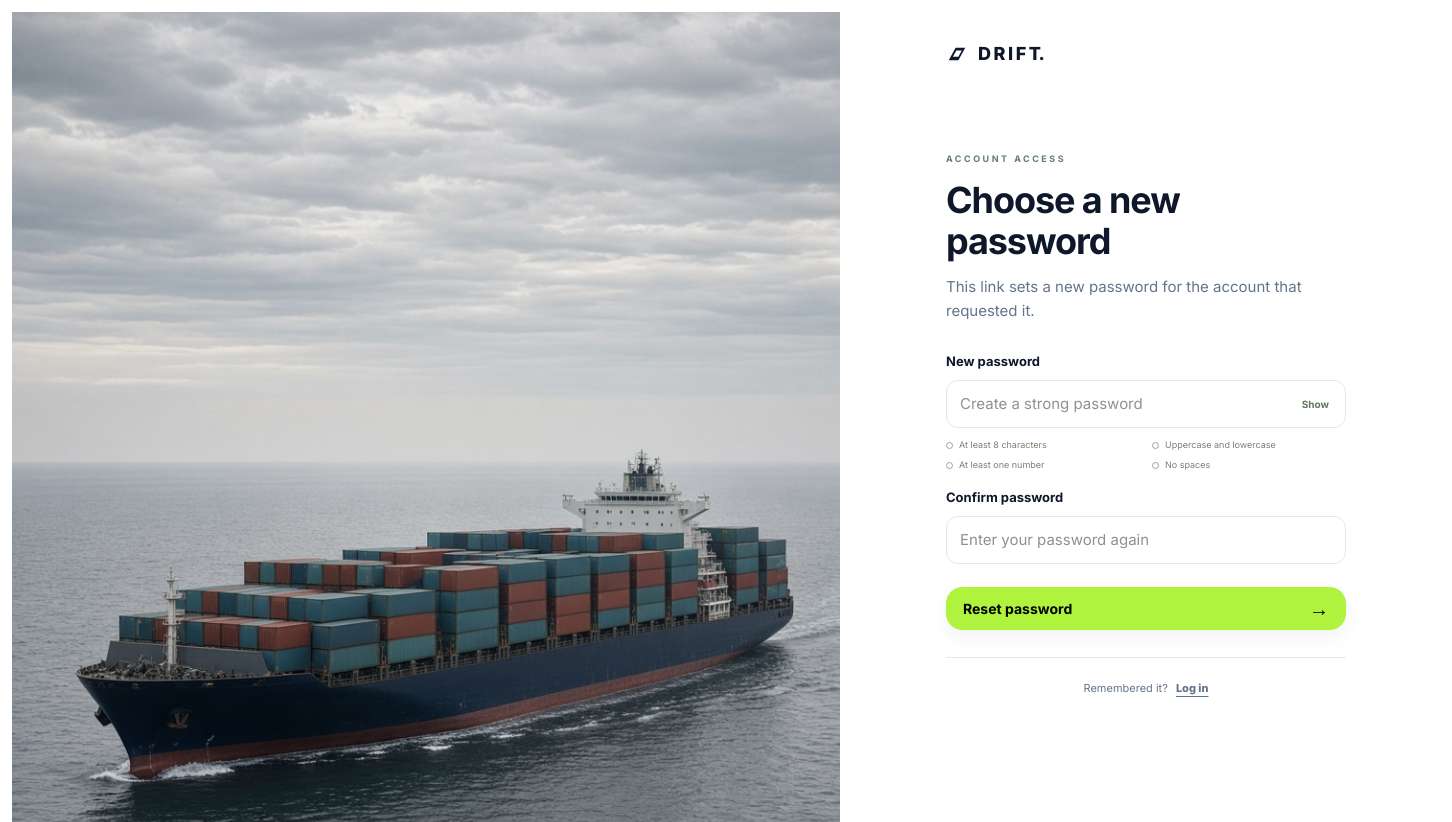
Test case: reset password page › saves a valid password and returns to login
Step 1. Type "Example123" into the password field labelled "New password" → (1146, 404), box [946,380,1346,428]
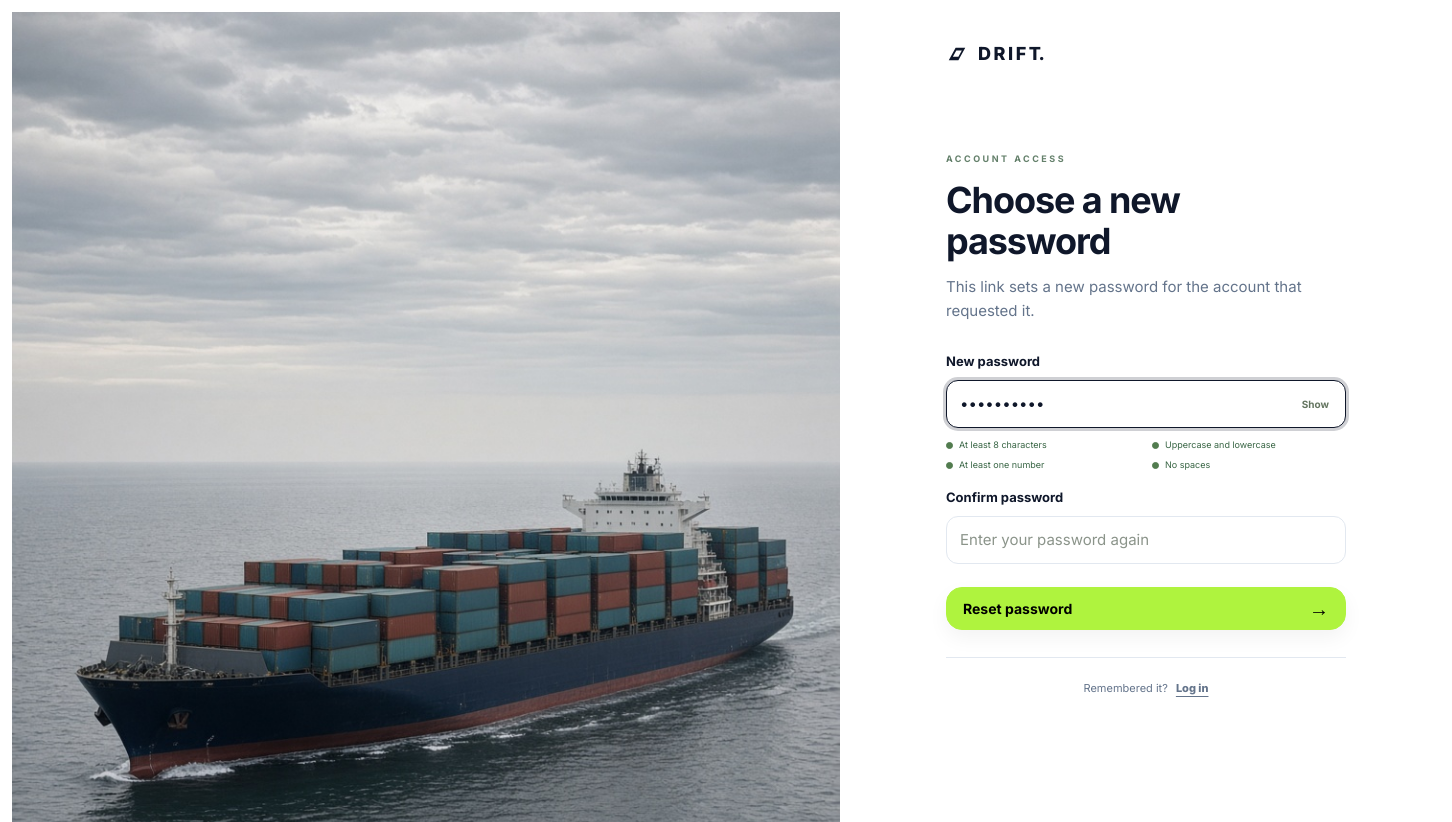
Step 2. Type "Example123" into the password field labelled "Confirm password" → (1146, 540), box [946,516,1346,564]
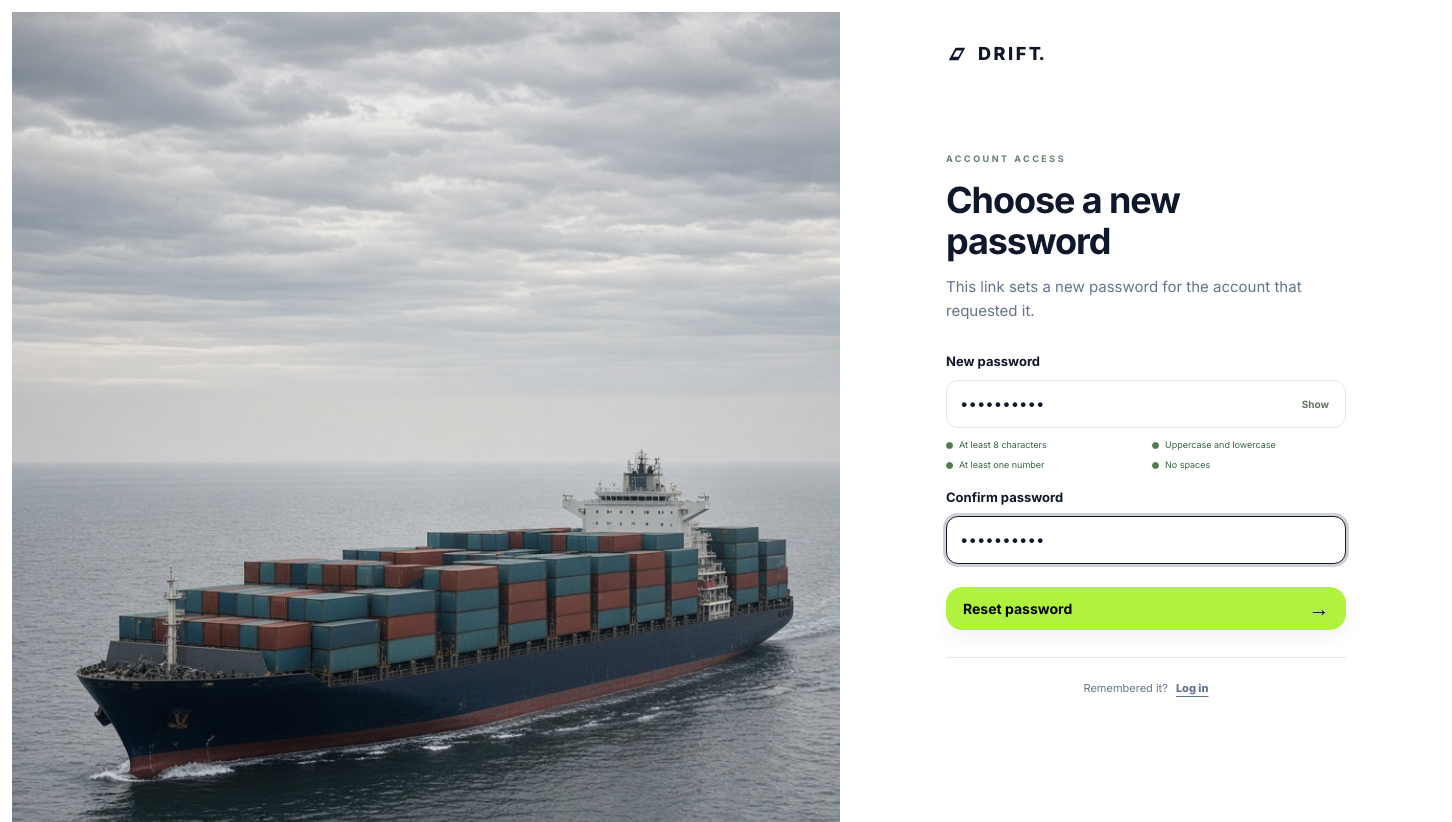
Step 3. Click the button "Reset password →" → (1018, 609), box [946,587,1346,630]
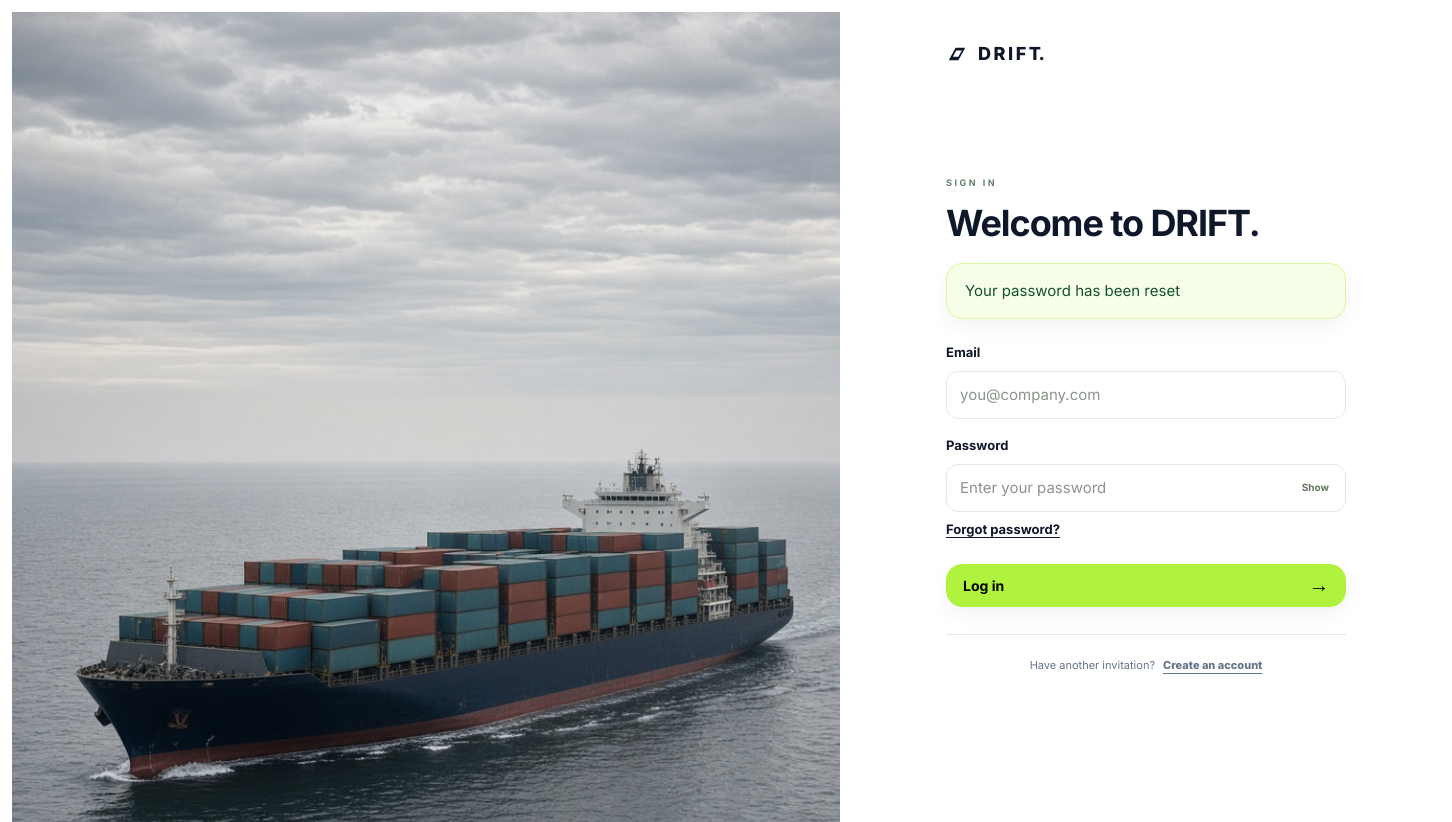
Result: the text "Your password has been reset" is shown at [946,263,1346,319]
Result: the heading "Welcome to DRIFT." is shown at [946,201,1260,245]
Result: the password field labelled "Password" is empty at [946,464,1346,512]
